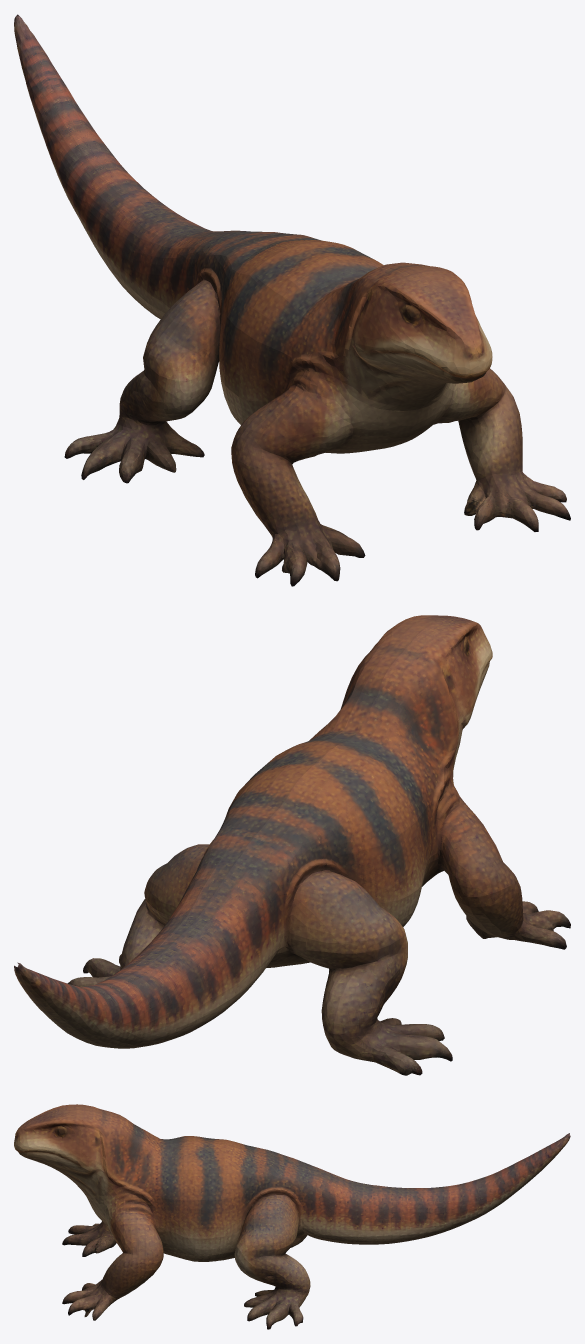
3 views of the same model, one above another, from view 1: azimuth 30°, elevation 25°; view 2: azimuth 150°, elevation 25°; view 3: azimuth 270°, elevation 25° (orthographic). The views are drawn at different scales.
Parts seen in each view (by area): view 1: world; view 2: world; view 3: world.
Boxes of the visible parts, bbox=[...] form: world: bbox=[14, 14, 570, 586]; world: bbox=[14, 615, 570, 1075]; world: bbox=[14, 1104, 570, 1329].
Bounding box in the file's own units: 0.1614 × 0.1149 × 0.35.
1 material, 1 textured.
